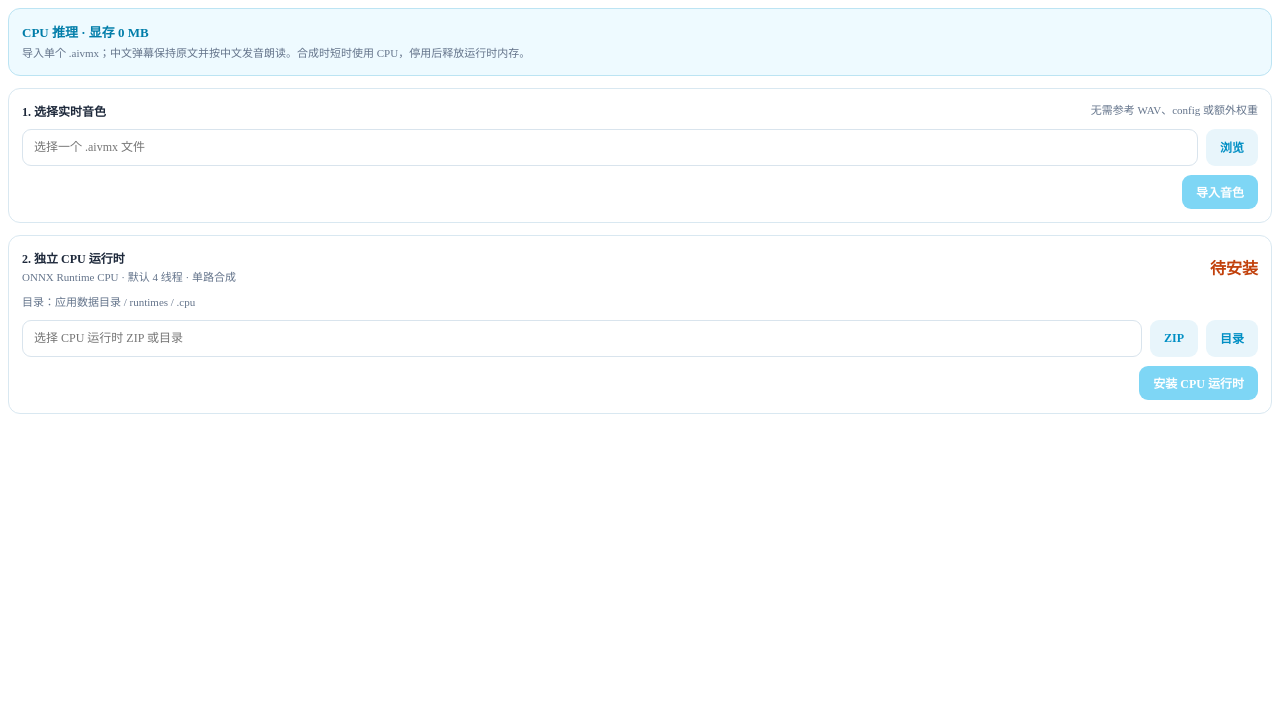
Test: AivmxImportPanel › requires rights confirmation then imports the unchanged aivmx
Click the button with test id "pick-aivmx" at (1232, 147), box [1206,128,1258,166]
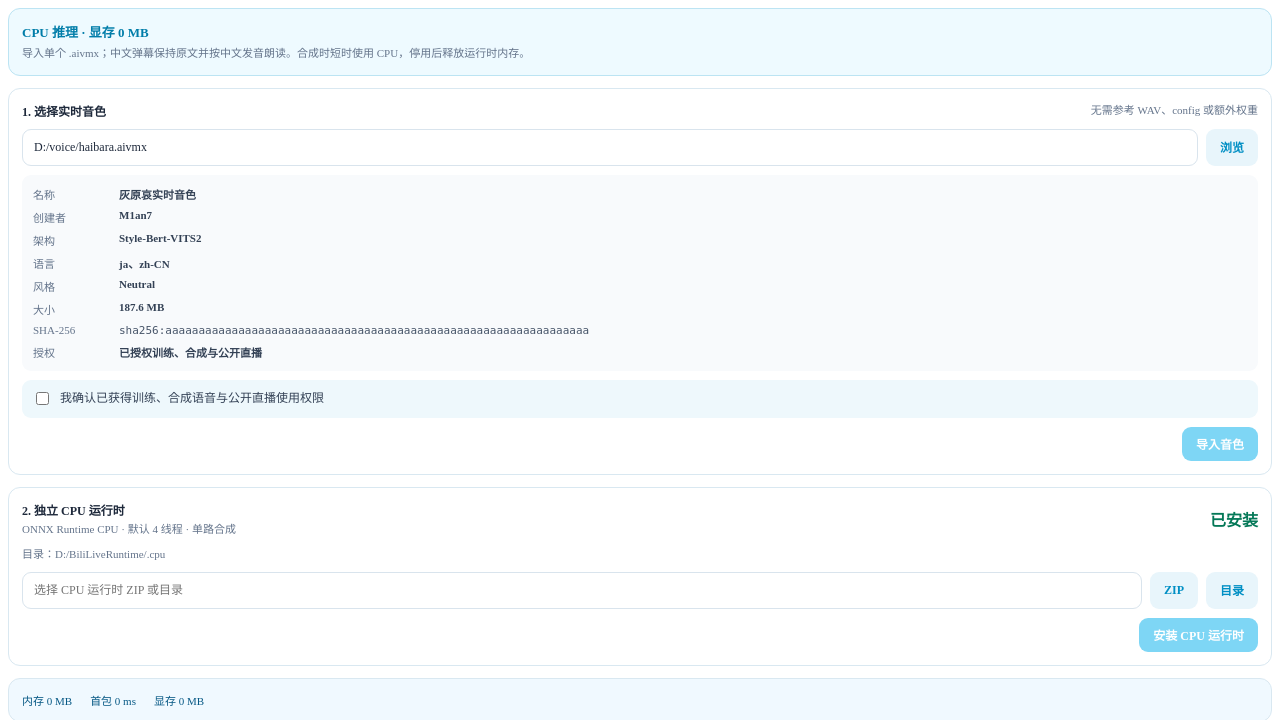
Expected: the text "灰原哀实时音色" is shown, [119,188,196,200]
Click the checkbox with test id "aivmx-permissions" at (42, 398), box [36,392,49,404]
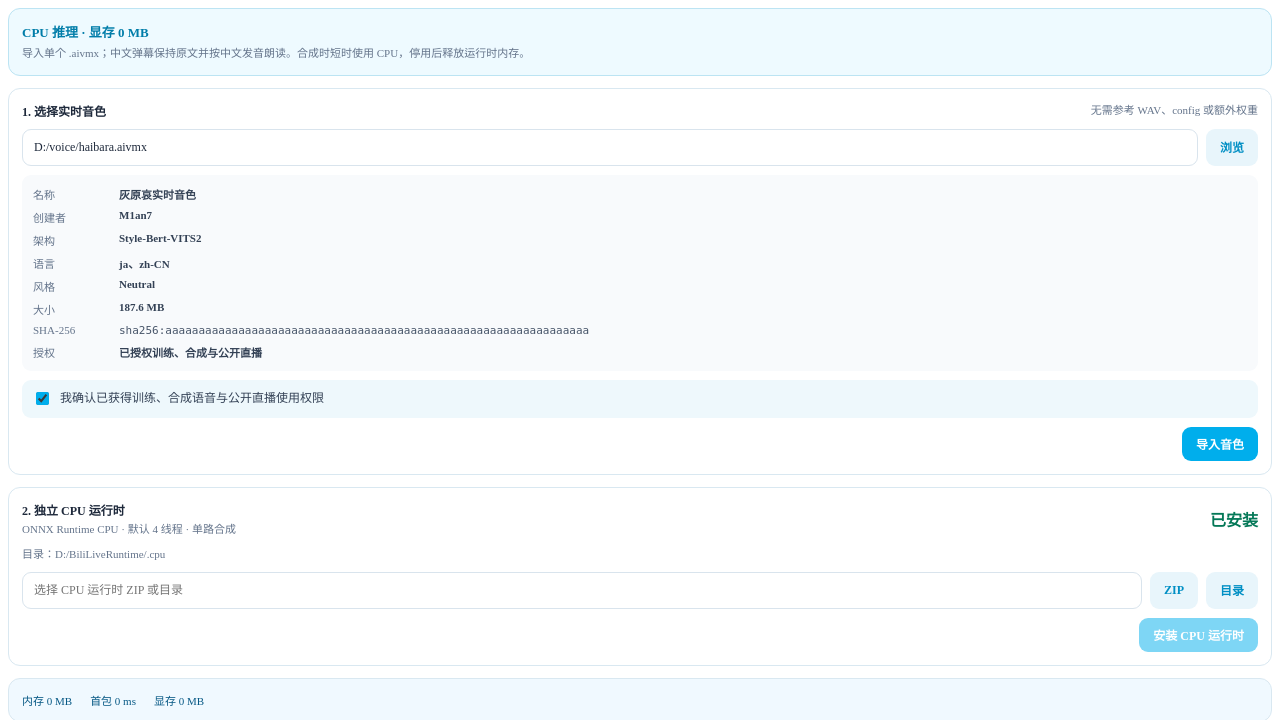
Click the button with test id "install-aivmx" at (1220, 444), box [1182,426,1258,460]
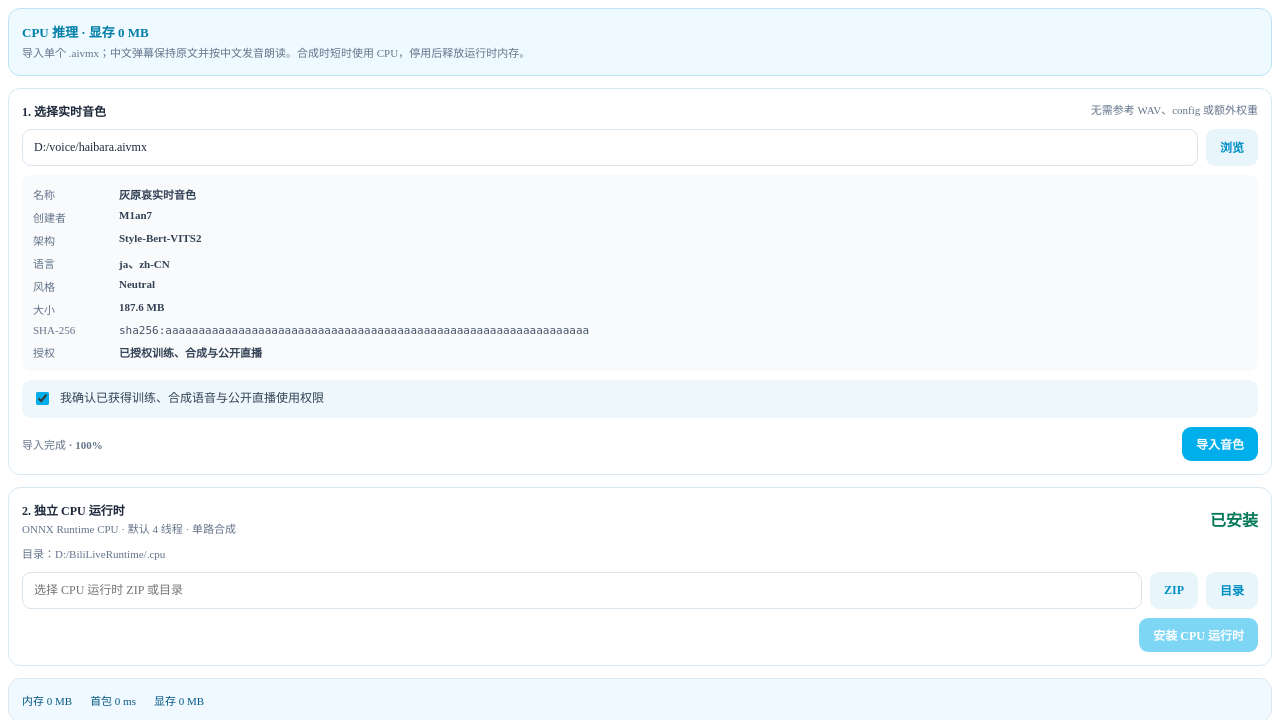
Expected: the text "导入完成" is shown, [22,438,66,450]
